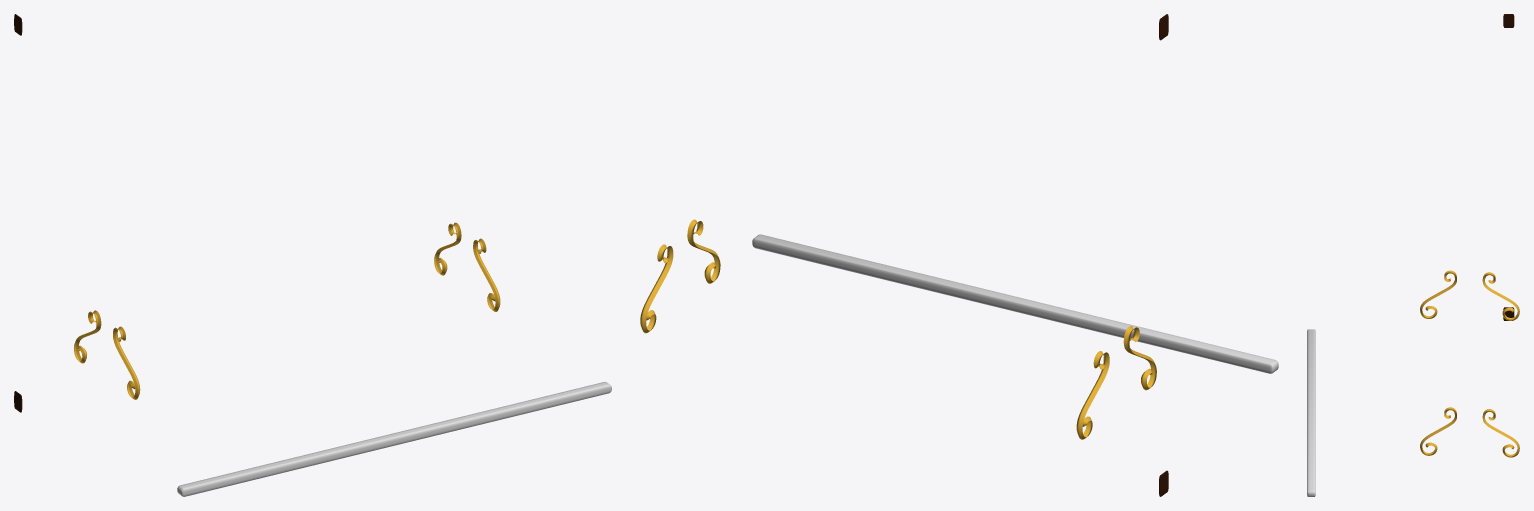
The model's file is CHEAIR.glb.
The picture shows the model from 3 angles, left to right: view 1: azimuth 30°, elevation 25°; view 2: azimuth 150°, elevation 25°; view 3: azimuth 270°, elevation 25°; orthographic projection. The views are drawn at different scales.
Parts seen in each view (by area): view 1: MAIN SEAT; view 2: MAIN SEAT, IRON CURVE, IRON CURVE.002, IRON CURVE.003; view 3: MAIN SEAT, IRON CURVE, IRON CURVE.002, IRON CURVE.003, IRON CURVE.001.
Boxes of the visible parts, x1,y1,x2,y2 form: MAIN SEAT: [177, 382, 611, 496]; MAIN SEAT: [752, 234, 1278, 373]; IRON CURVE: [1076, 351, 1109, 439]; IRON CURVE.002: [640, 244, 673, 333]; IRON CURVE.003: [687, 219, 720, 283]; MAIN SEAT: [1307, 329, 1315, 496]; IRON CURVE: [1482, 272, 1519, 320]; IRON CURVE.002: [1482, 409, 1519, 457]; IRON CURVE.003: [1420, 407, 1456, 455]; IRON CURVE.001: [1420, 270, 1456, 318].
Bounding box in the file's own units: 13.23 × 10.75 × 6.74.
